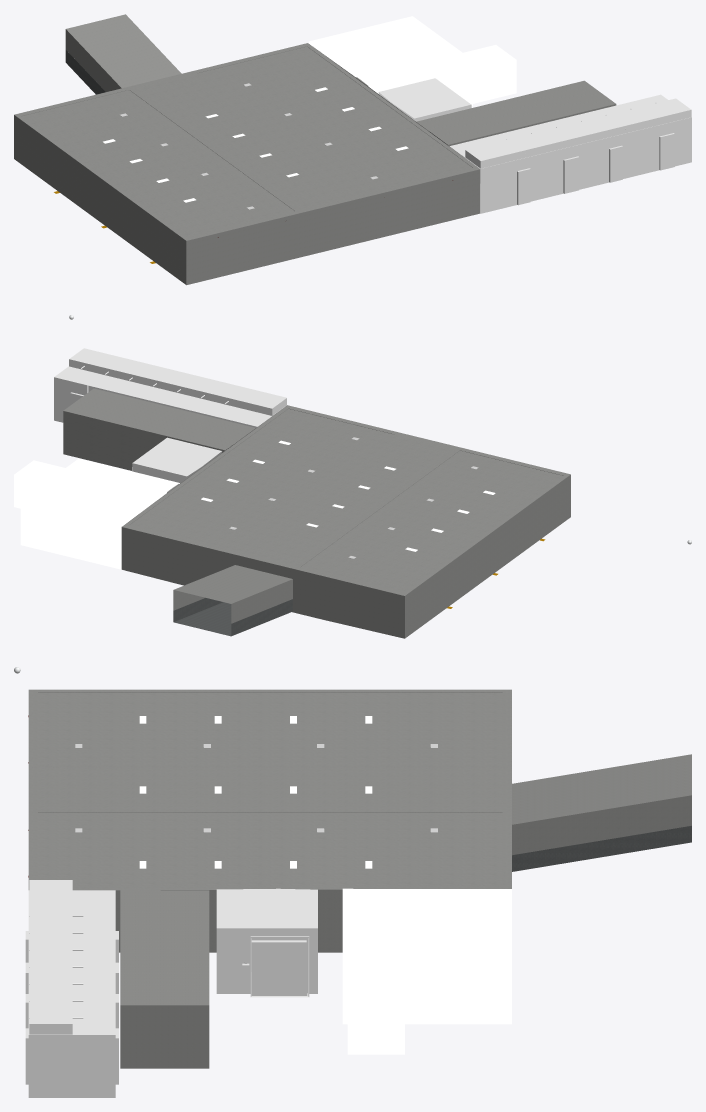
The model's file is basement-opt.glb.
The picture shows the model from 3 angles, top to bottom: view 1: azimuth 30°, elevation 25°; view 2: azimuth 150°, elevation 25°; view 3: azimuth 270°, elevation 25°; orthographic projection. The views are drawn at different scales.
Parts seen in each view (by area): view 1: Object_4, Object_5, Object_44, Object_104; view 2: Object_4, Object_44, Object_5, Object_104; view 3: Object_4, Object_5, Object_44, Object_104, Object_20.
Boxes of the visible parts, x1,y1,x2,y2 form: Object_4: (14,14,616,285); Object_5: (54,77,691,263); Object_44: (308,16,516,106); Object_104: (65,50,105,94); Object_4: (63,388,570,638); Object_44: (14,458,179,569); Object_5: (54,348,545,608); Object_104: (173,598,292,636); Object_4: (28,689,691,1068); Object_5: (25,715,437,1097); Object_44: (342,888,511,1054); Object_104: (512,825,691,871); Object_20: (139,716,372,868).
Bounding box in the file's own units: 296 × 25.71 × 198.
9 materials, 9 textured.
